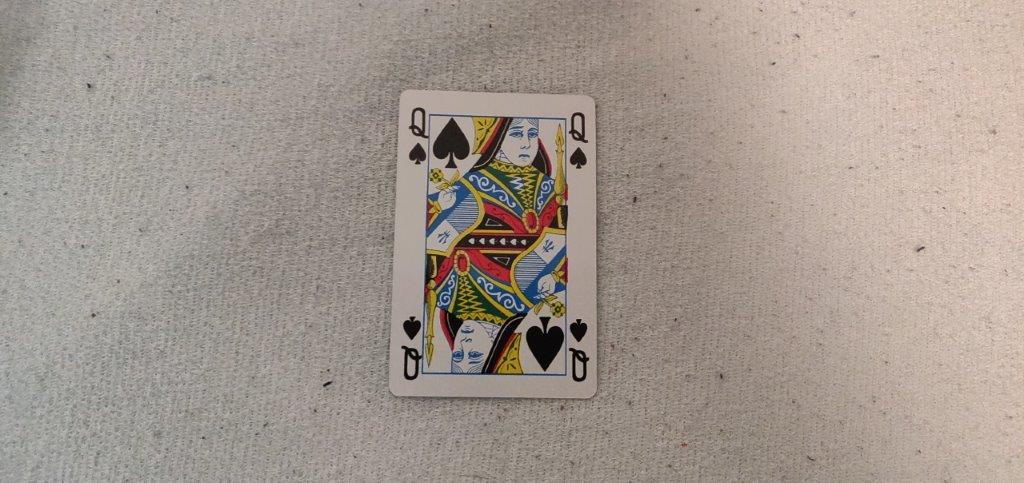QS: (566, 110, 592, 173), (408, 104, 430, 166)
